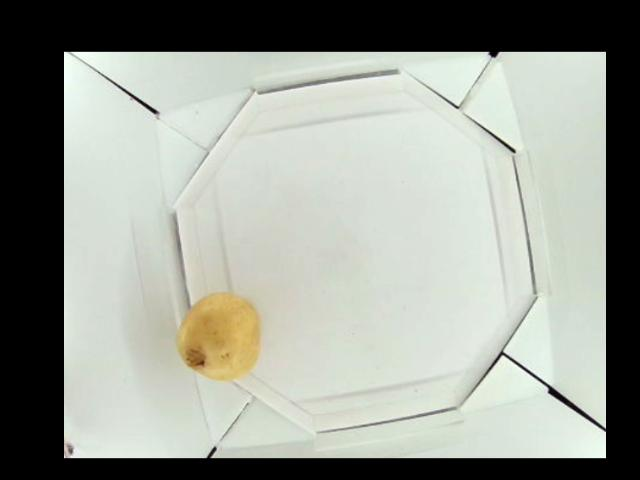Potato: (169, 291, 259, 382)
